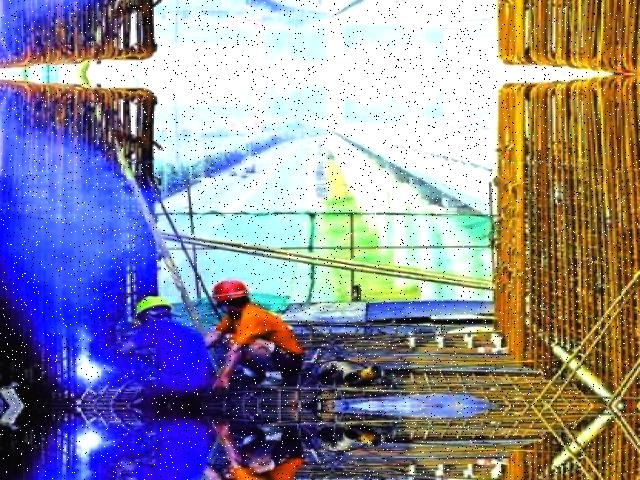Helmet: (203, 276, 253, 305), (130, 290, 172, 320)
